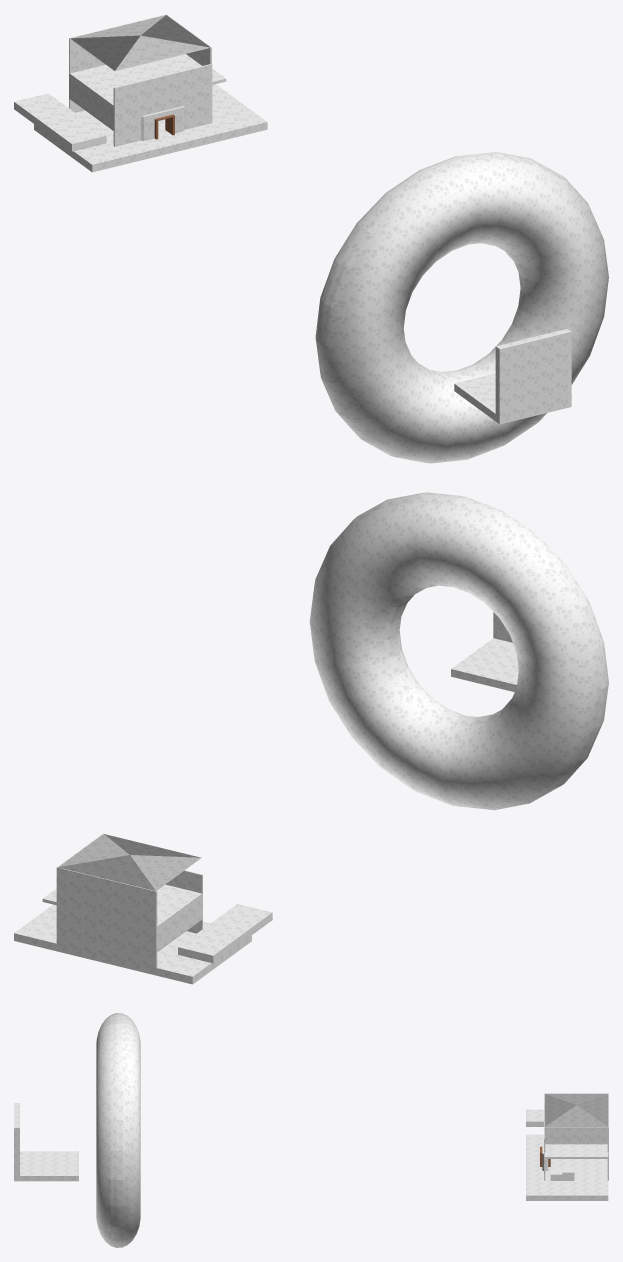
The model's file is ChrisLevel2.fbx.obj.
The picture shows the model from 3 angles, top to bottom: view 1: azimuth 30°, elevation 25°; view 2: azimuth 150°, elevation 25°; view 3: azimuth 270°, elevation 25°; orthographic projection. The views are drawn at different scales.
Visible parts, largest first — view 1: cylinder_donut_2, block_default_3, block_piramid_25, block_default_15, block_default_28, block_default_5, block_default_23, block_default_24, block_default_1, block_default_13, block_default_14, block_default_26 (+3 smaller); view 2: cylinder_donut_2, block_default_21, block_piramid_25, block_default_28, block_default_1, block_default_5, block_default_24, block_default_23, block_default_26, block_default_31; view 3: cylinder_donut_2, block_piramid_25, block_default_1, block_default_23, block_default_5, block_default_19, block_default_35, block_default_3, block_default_34.
Boxes of the visible parts, bbox=[...] form: cylinder_donut_2: bbox=[315, 152, 608, 463]; block_default_3: bbox=[495, 328, 571, 424]; block_piramid_25: bbox=[70, 15, 210, 70]; block_default_15: bbox=[113, 64, 212, 125]; block_default_28: bbox=[14, 93, 106, 151]; block_default_5: bbox=[75, 110, 225, 163]; block_default_23: bbox=[212, 84, 267, 139]; block_default_24: bbox=[34, 124, 126, 172]; block_default_1: bbox=[454, 373, 495, 420]; block_default_13: bbox=[180, 85, 212, 129]; block_default_14: bbox=[113, 101, 146, 146]; block_default_26: bbox=[69, 75, 113, 130]; cylinder_donut_2: bbox=[309, 492, 608, 810]; block_default_21: bbox=[56, 867, 157, 968]; block_piramid_25: bbox=[58, 834, 201, 890]; block_default_28: bbox=[178, 904, 272, 963]; block_default_1: bbox=[451, 638, 518, 691]; block_default_5: bbox=[56, 921, 210, 976]; block_default_24: bbox=[157, 935, 251, 984]; block_default_23: bbox=[14, 904, 56, 951]; block_default_26: bbox=[157, 895, 202, 951]; block_default_31: bbox=[157, 888, 202, 928]; cylinder_donut_2: bbox=[96, 1013, 140, 1247]; block_piramid_25: bbox=[544, 1093, 608, 1126]; block_default_1: bbox=[20, 1151, 78, 1181]; block_default_23: bbox=[526, 1181, 608, 1200]; block_default_5: bbox=[526, 1146, 607, 1180]; block_default_19: bbox=[544, 1127, 608, 1144]; block_default_35: bbox=[544, 1150, 608, 1158]; block_default_3: bbox=[14, 1103, 19, 1181]; block_default_34: bbox=[545, 1144, 607, 1149].
Bounding box in the file's own units: 20 × 20 × 50.45.
7 materials, 4 textured.
